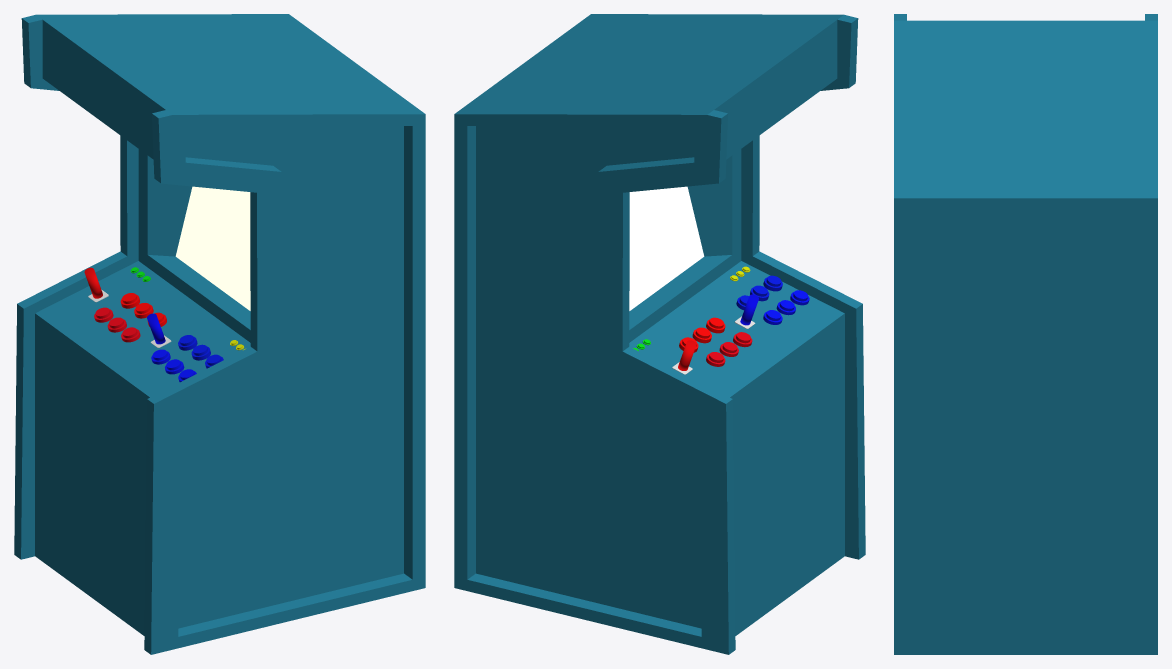
File: retro machine blue.fbx
3 views of the same model, side by side, from view 1: azimuth 30°, elevation 25°; view 2: azimuth 150°, elevation 25°; view 3: azimuth 270°, elevation 25° (orthographic). The views are drawn at different scales.
Parts seen in each view (by area): view 1: Cube.014; view 2: Cube.014; view 3: Cube.014.
Part boxes in pixels (x1=…): Cube.014: x1=14, y1=14, x2=425, y2=654; Cube.014: x1=454, y1=14, x2=865, y2=654; Cube.014: x1=894, y1=14, x2=1157, y2=654.
Size of the model in its own units: 106 by 197 by 91.31.
